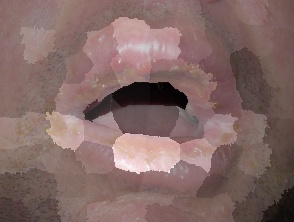SJS-TEN: (31, 108, 246, 175), (66, 49, 225, 109)
